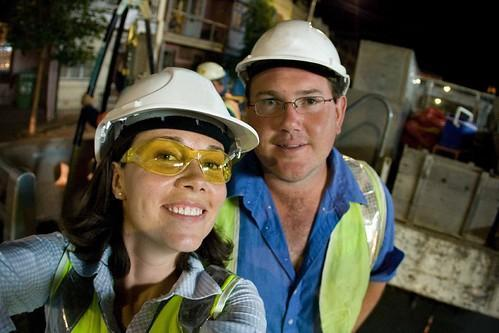vest: (211, 150, 385, 331), (49, 233, 242, 332)
